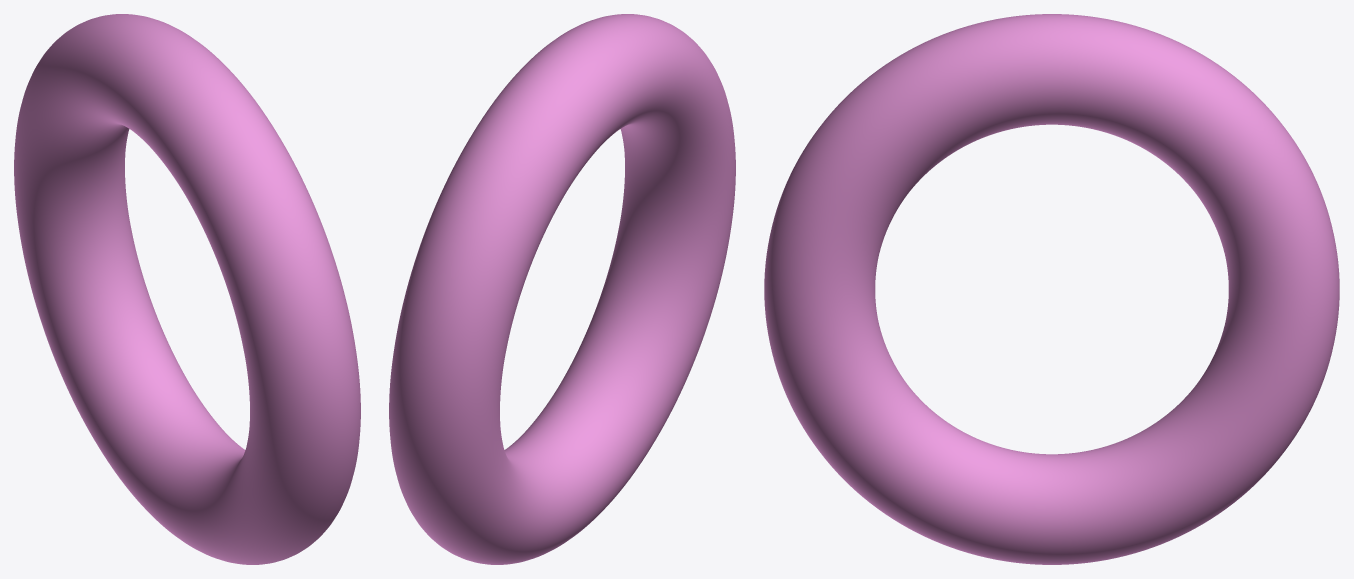
3 renders of one model, left to right at view 1: azimuth 30°, elevation 25°; view 2: azimuth 150°, elevation 25°; view 3: azimuth 270°, elevation 25°, orthographic.
Visible parts, largest first — view 1: Torus; view 2: Torus; view 3: Torus.
Boxes of the visible parts, x1=… form: Torus: x1=14, y1=14, x2=360, y2=564; Torus: x1=389, y1=14, x2=735, y2=564; Torus: x1=764, y1=14, x2=1339, y2=564.
Bounding box in the file's own units: 0.6996 × 2.46 × 2.47.
